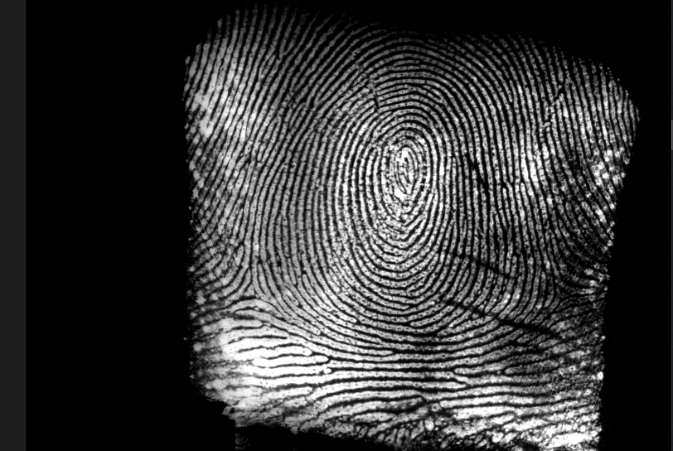nucelo: (390, 137, 420, 197)
verticilo: (230, 272, 265, 309), (544, 283, 573, 315)
